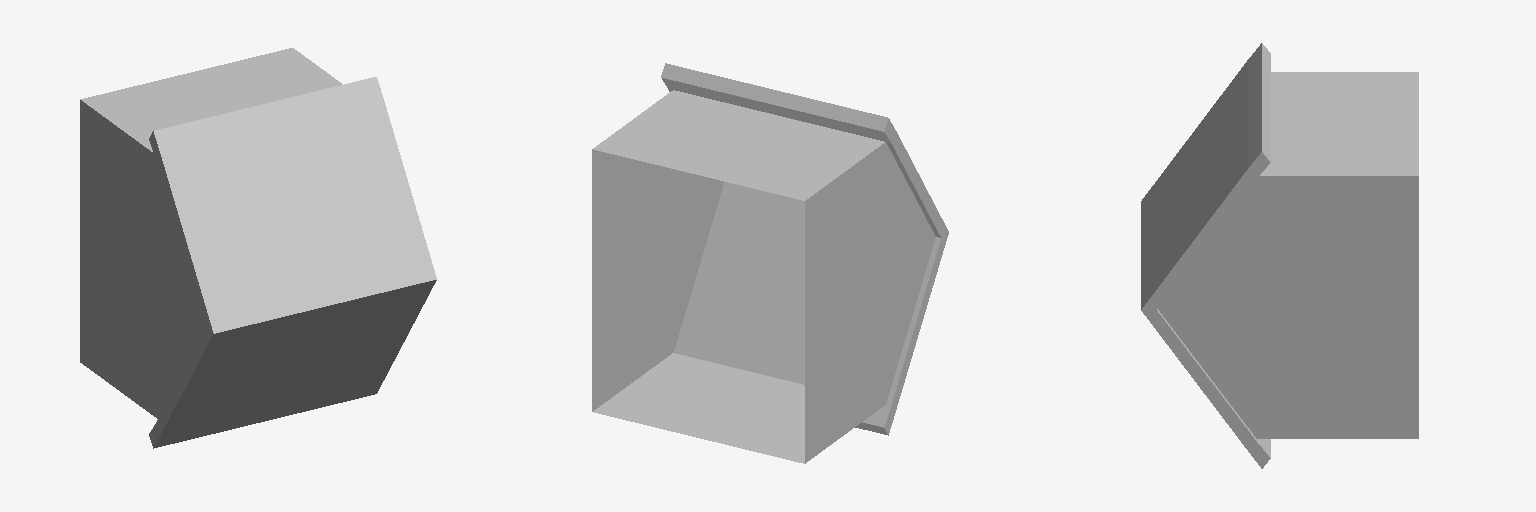
The model's file is tower21.obj.
The picture shows the model from 3 angles: view 1: azimuth 30°, elevation 25°; view 2: azimuth 150°, elevation 25°; view 3: azimuth 270°, elevation 25°; orthographic projection.
Visible parts, largest first — view 1: tower21; view 2: tower21; view 3: tower21.
Part boxes in pixels (left/top/right/bottom): tower21: left=80, top=48, right=436, bottom=448; tower21: left=592, top=63, right=948, bottom=463; tower21: left=1141, top=43, right=1418, bottom=468.
Bounding box in the file's own units: 9.66 × 13.14 × 10.41.